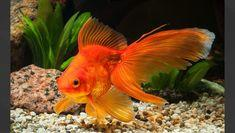goldfish: (50, 37, 194, 116)
